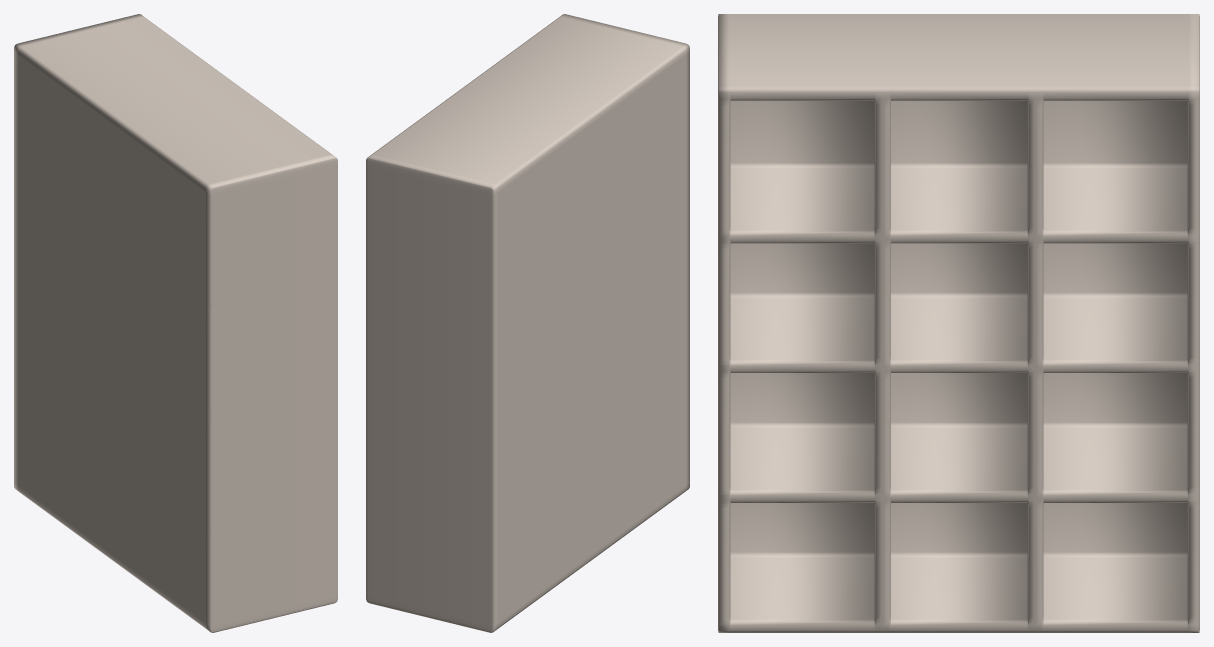
File: KallaxRegal groß.fbx
3 renders of one model, left to right at view 1: azimuth 30°, elevation 25°; view 2: azimuth 150°, elevation 25°; view 3: azimuth 270°, elevation 25°, orthographic. The views are drawn at different scales.
Visible parts, largest first — view 1: Regal; view 2: Regal; view 3: Regal.
Part boxes in pixels (left/top/right/bottom): Regal: left=14, top=14, right=337, bottom=632; Regal: left=366, top=14, right=689, bottom=632; Regal: left=718, top=14, right=1199, bottom=632.
Bounding box in the file's own units: 60 × 200 × 160.
Materials: 1 (1 with a texture image).
